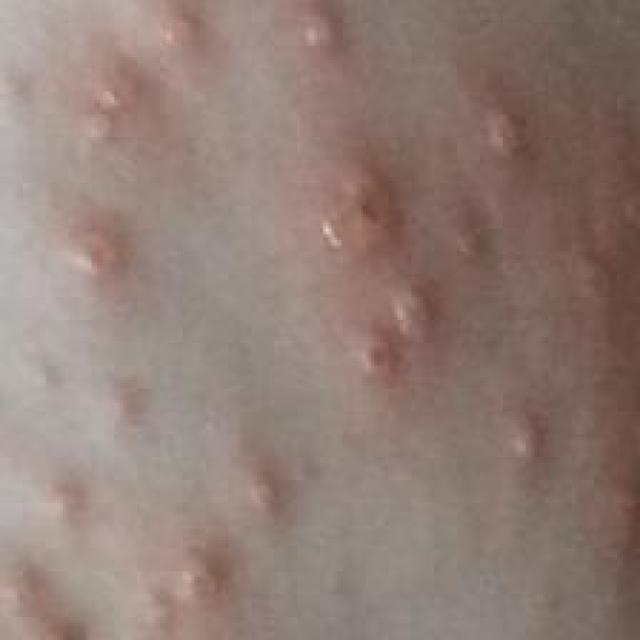others: (17, 5, 583, 621)
